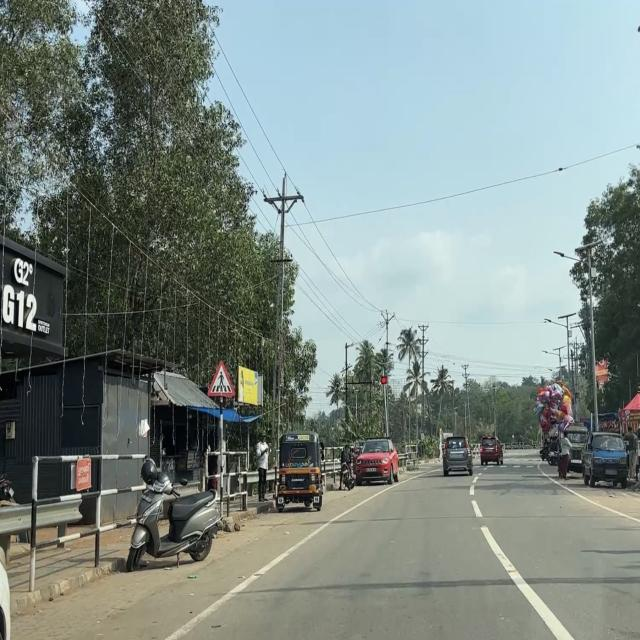PEDESTRIAN_CROSSING: (206, 358, 236, 398)
